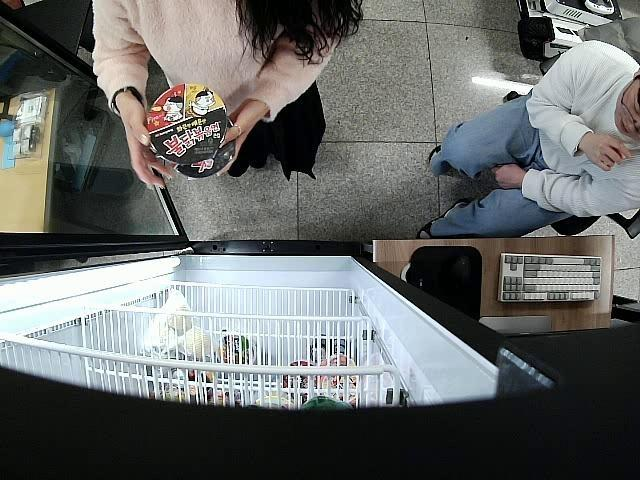07_buldak_L: (144, 86, 228, 165), (174, 120, 236, 179)
